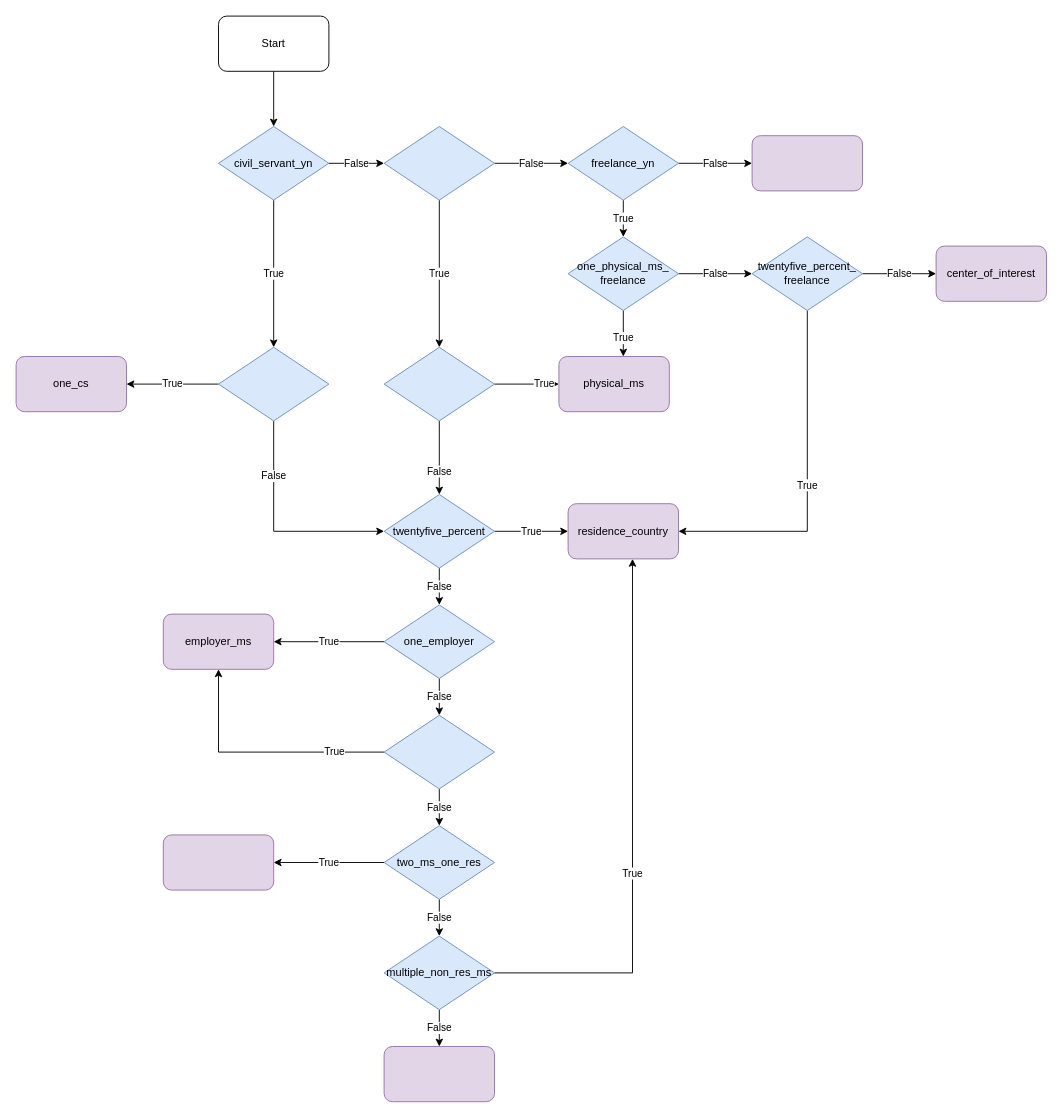
Image size: 1063x1118. Some labels were removed from this diagram. Here are the shapes that lost their labels. From the top down, the box of each, then its label:
(383, 126, 494, 200): employee_yn
(751, 135, 862, 191): need_work
(218, 346, 329, 421): one_cs_yn
(383, 346, 494, 421): one_physical_ms
(383, 714, 494, 789): employers_one_ms
(162, 834, 274, 890): not_res_country
(383, 1046, 494, 1102): edge_case
